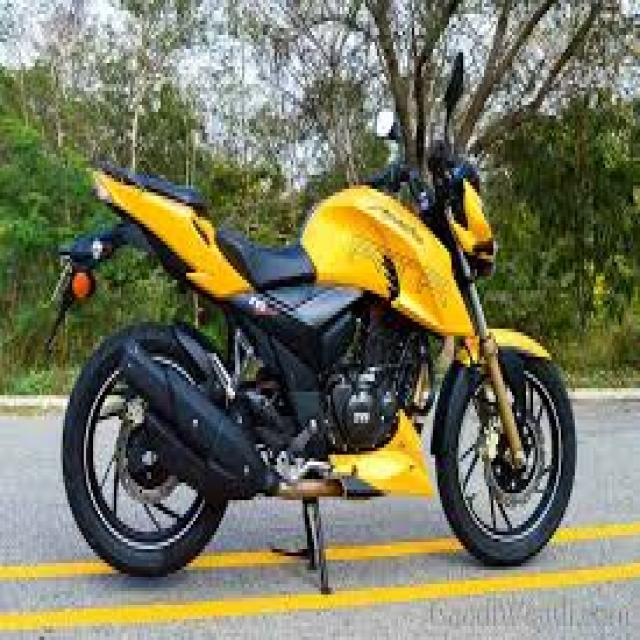bike: (58, 78, 573, 566)
